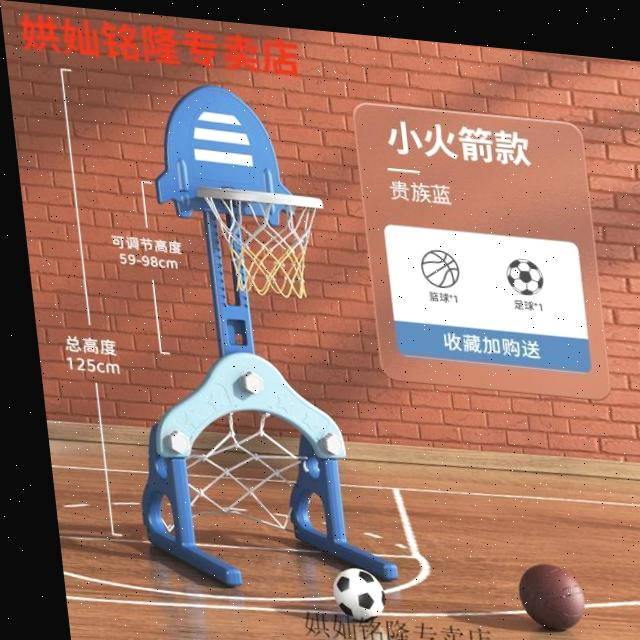basketball: (514, 561, 588, 634)
hoop: (197, 185, 336, 301)
